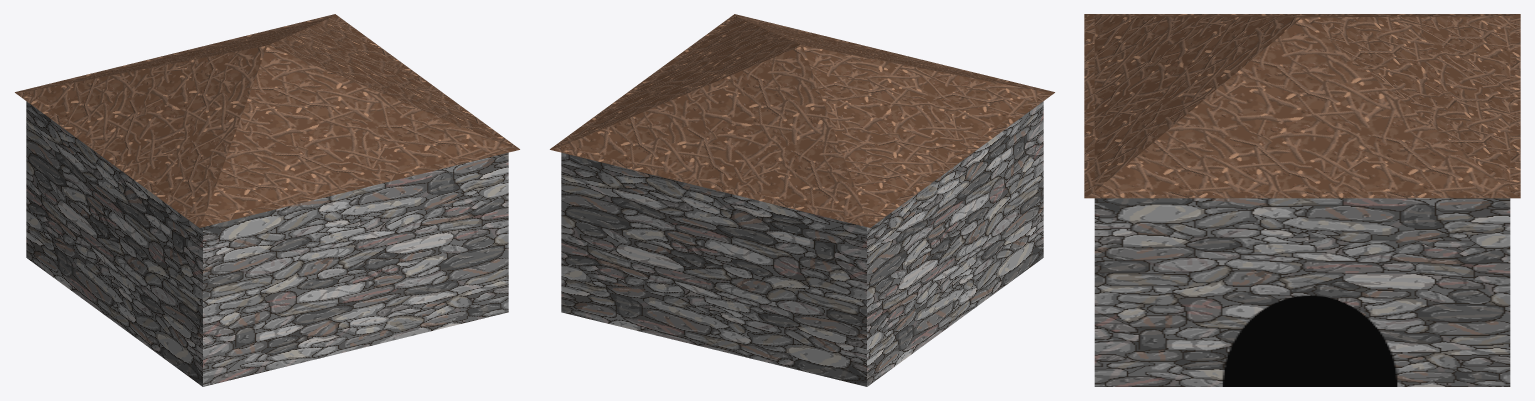
Rendered from rock_hut.fbx.
3 views of the same model, side by side, from view 1: azimuth 30°, elevation 25°; view 2: azimuth 150°, elevation 25°; view 3: azimuth 270°, elevation 25° (orthographic). The views are drawn at different scales.
Visible parts, largest first — view 1: RockHut; view 2: RockHut; view 3: RockHut.
Part boxes in pixels (box(x1,y1,x2,y2)): RockHut: box(15, 14, 519, 386); RockHut: box(550, 14, 1054, 386); RockHut: box(1084, 14, 1520, 386).
Size of the model in its own units: 800 by 568 by 800.
